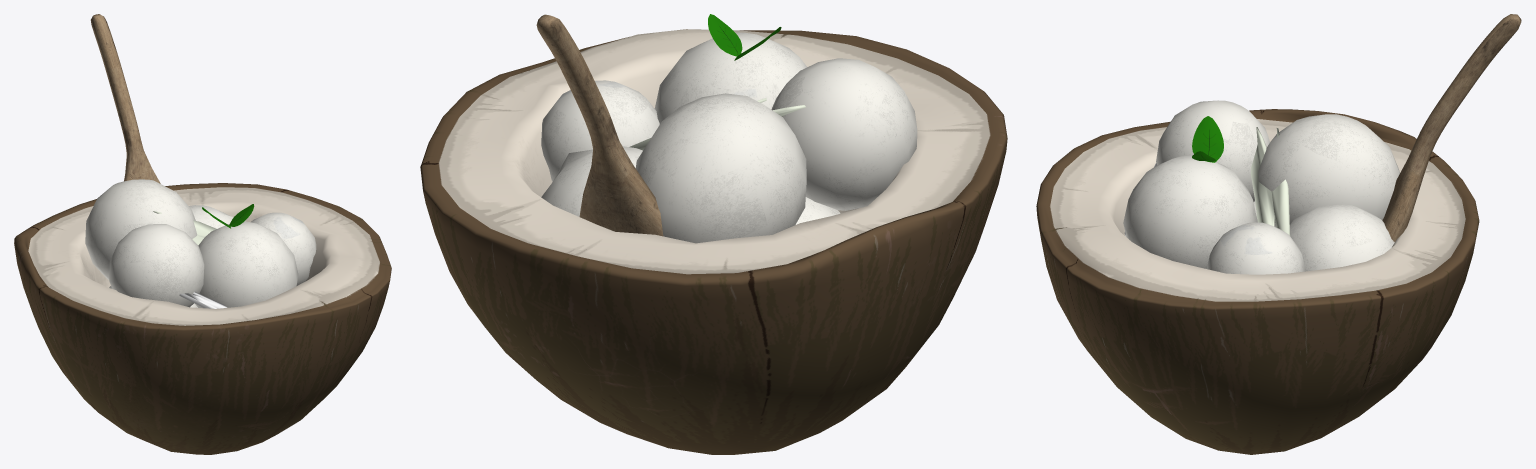
The model's file is coconut-22-04-2022.fbx.
3 views of the same model, side by side, from view 1: azimuth 30°, elevation 25°; view 2: azimuth 150°, elevation 25°; view 3: azimuth 270°, elevation 25° (orthographic). The views are drawn at different scales.
Parts seen in each view (by area): view 1: coconutinside, Sphere, Cube, Plane.001; view 2: coconutinside, Sphere, Cube, Plane.002; view 3: coconutinside, Sphere, Cube, Plane, Plane.002.
Part boxes in pixels (x1=…): coconutinside: x1=14, y1=183, x2=391, y2=454; Sphere: x1=85, y1=179, x2=316, y2=308; Cube: x1=90, y1=14, x2=160, y2=183; Plane.001: x1=179, y1=292, x2=227, y2=308; coconutinside: x1=420, y1=29, x2=1007, y2=454; Sphere: x1=541, y1=32, x2=917, y2=243; Cube: x1=536, y1=14, x2=663, y2=236; Plane.002: x1=708, y1=14, x2=781, y2=60; coconutinside: x1=1036, y1=109, x2=1479, y2=454; Sphere: x1=1123, y1=100, x2=1399, y2=274; Cube: x1=1382, y1=14, x2=1521, y2=241; Plane: x1=1250, y1=127, x2=1290, y2=235; Plane.002: x1=1192, y1=116, x2=1223, y2=162.
Size of the model in its own units: 211 by 219 by 229.
6 materials, 4 textured.
